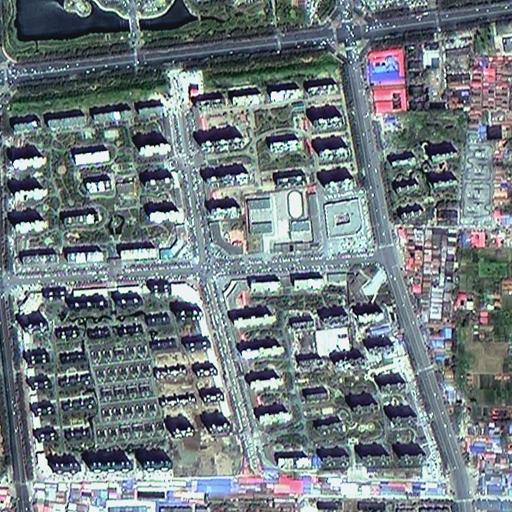school: (244, 185, 323, 259)
